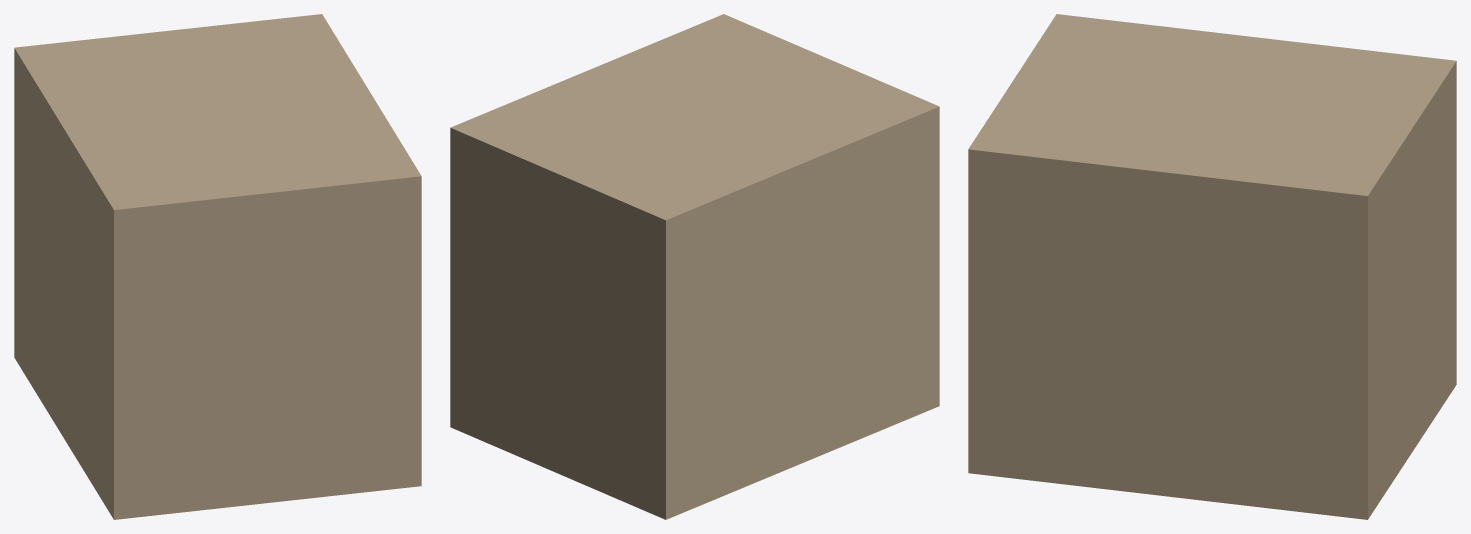
The model's file is bld_163484217.dae.
3 views of the same model, side by side, from view 1: azimuth 30°, elevation 25°; view 2: azimuth 150°, elevation 25°; view 3: azimuth 270°, elevation 25° (orthographic). The views are drawn at different scales.
Parts seen in each view (by area): view 1: bld_163484217; view 2: bld_163484217; view 3: bld_163484217.
Boxes of the visible parts, <box> form: bld_163484217: <box>14,14,421,519</box>; bld_163484217: <box>450,14,939,519</box>; bld_163484217: <box>968,14,1456,519</box>.
Size of the model in its own units: 9.65 by 10.94 by 8.
